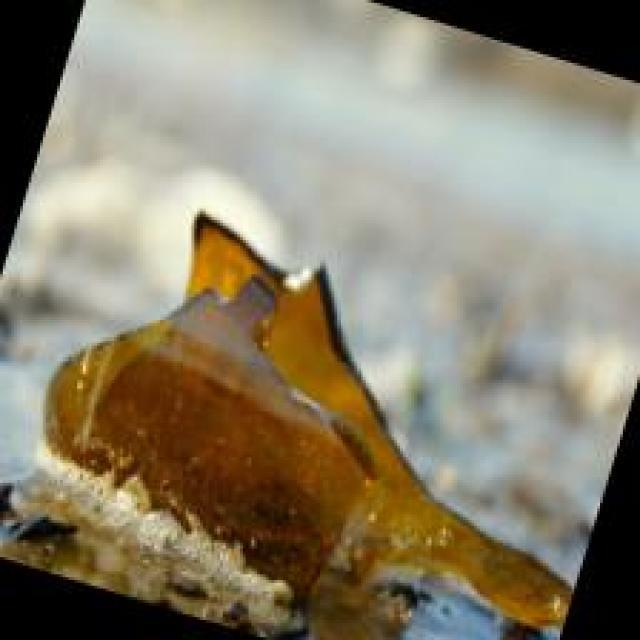Dry: (45, 213, 575, 622)
